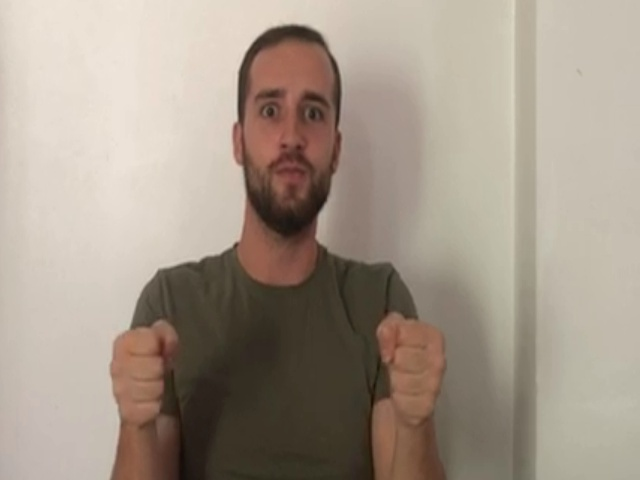Sili: (107, 310, 451, 432)
